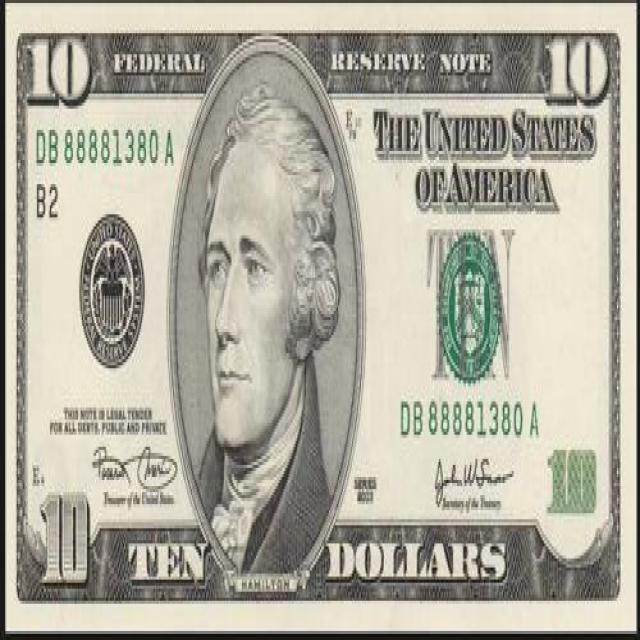10-Front: (5, 3, 635, 634)
